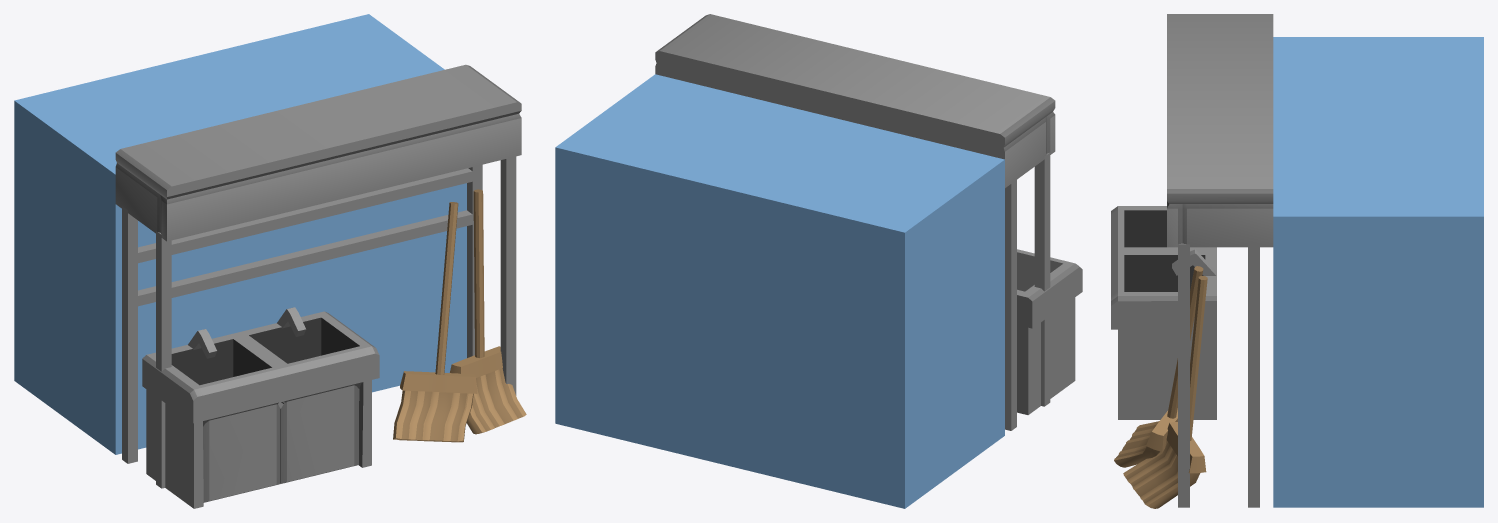
File: BroomThing.fbx
3 views of the same model, side by side, from view 1: azimuth 30°, elevation 25°; view 2: azimuth 150°, elevation 25°; view 3: azimuth 270°, elevation 25° (orthographic). The views are drawn at different scales.
Parts seen in each view (by area): view 1: Cube.200; view 2: Cube.200; view 3: Cube.200.
Boxes of the visible parts, x1,y1,x2,y2 form: Cube.200: (14, 14, 526, 508); Cube.200: (555, 14, 1082, 508); Cube.200: (1111, 14, 1483, 508).
Bounding box in the file's own units: 201 × 167 × 175.
